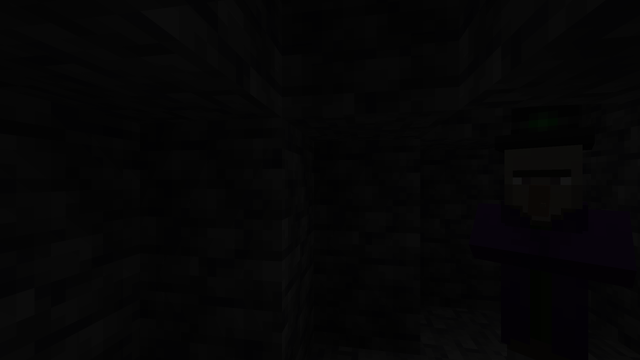sorcieres: (488, 134, 618, 359)
